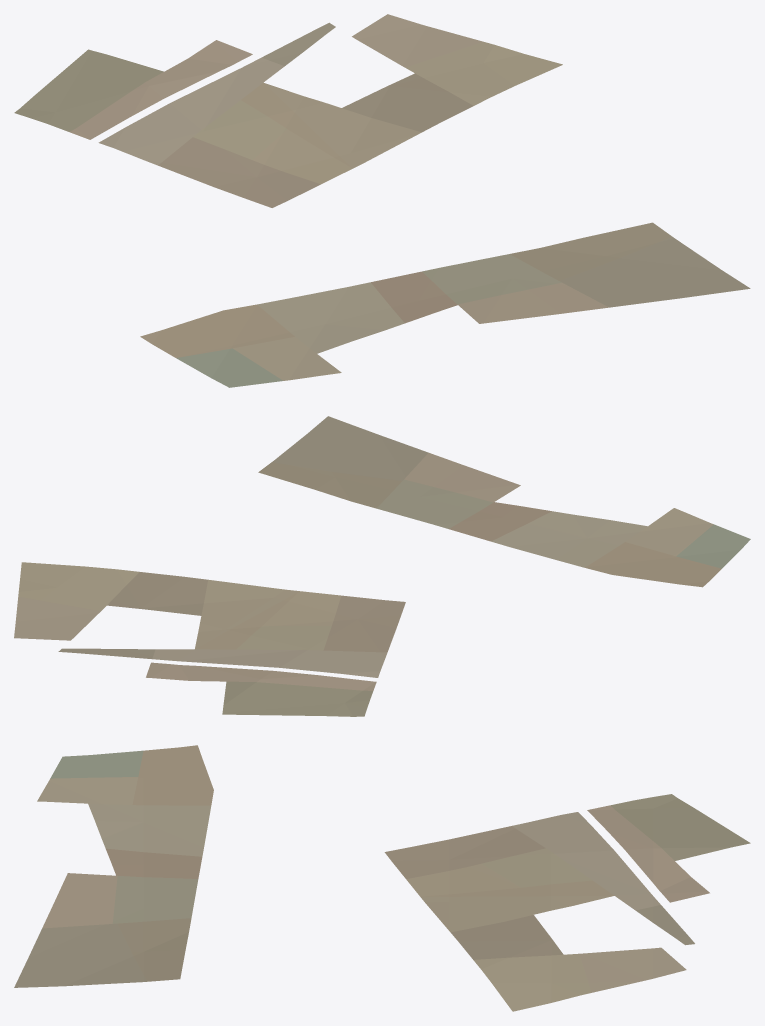
Rendered from farm_20_14_soil.glb.
3 renders of one model, top to bottom at view 1: azimuth 30°, elevation 25°; view 2: azimuth 150°, elevation 25°; view 3: azimuth 270°, elevation 25°, orthographic. The views are drawn at different scales.
Parts seen in each view (by area): view 1: geometry_0; view 2: geometry_0; view 3: geometry_0.
Part boxes in pixels (x1,y1,x2,y2): geometry_0: (14,14,750,387); geometry_0: (14,416,750,716); geometry_0: (14,745,750,1011).
Bounding box in the file's own units: 505 × 16.56 × 579.
